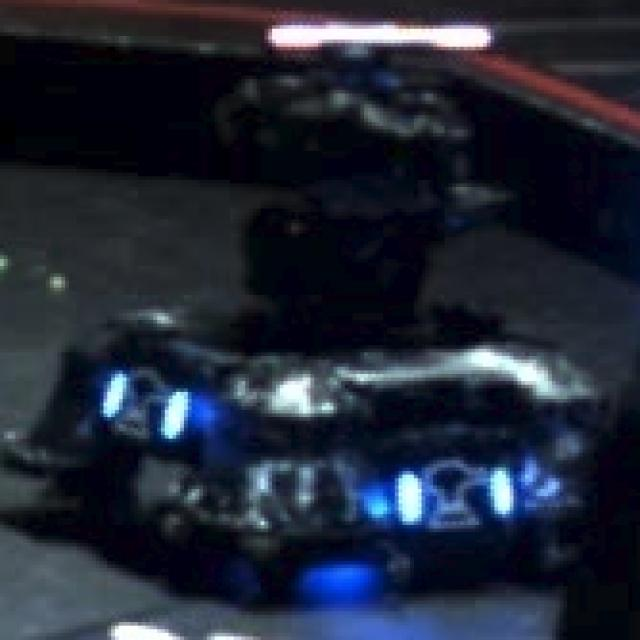Bs: (92, 363, 203, 446), (395, 468, 521, 528)
